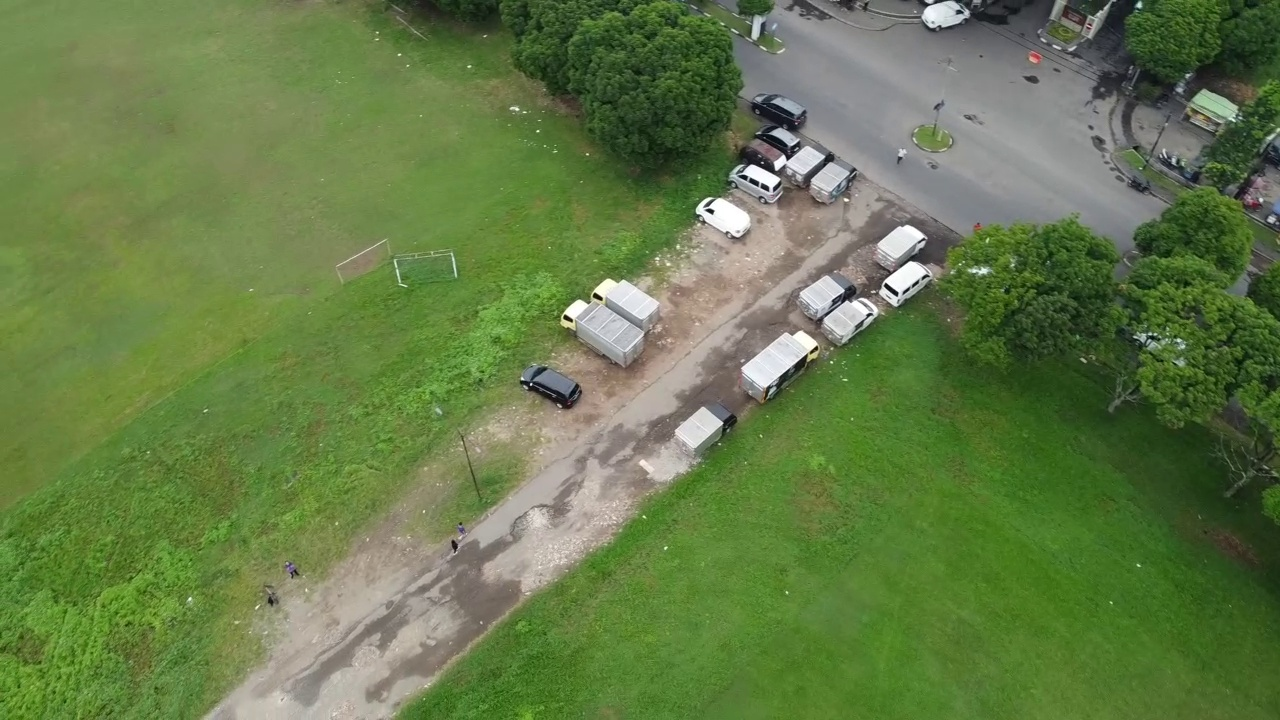mobil: (750, 83, 814, 133), (522, 363, 584, 413), (877, 258, 938, 306), (699, 191, 755, 239), (728, 161, 787, 202), (738, 137, 788, 172), (915, 5, 977, 32), (754, 122, 803, 155)
